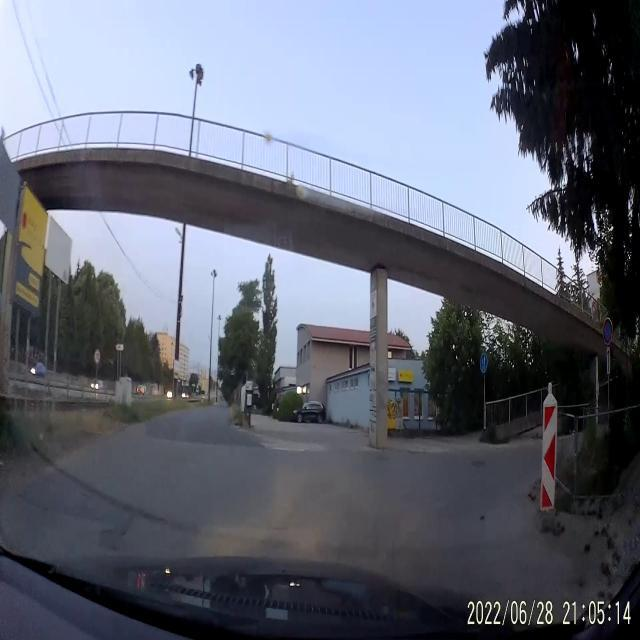Manhole: (470, 458, 487, 468)
Pothole: (478, 514, 486, 522)
